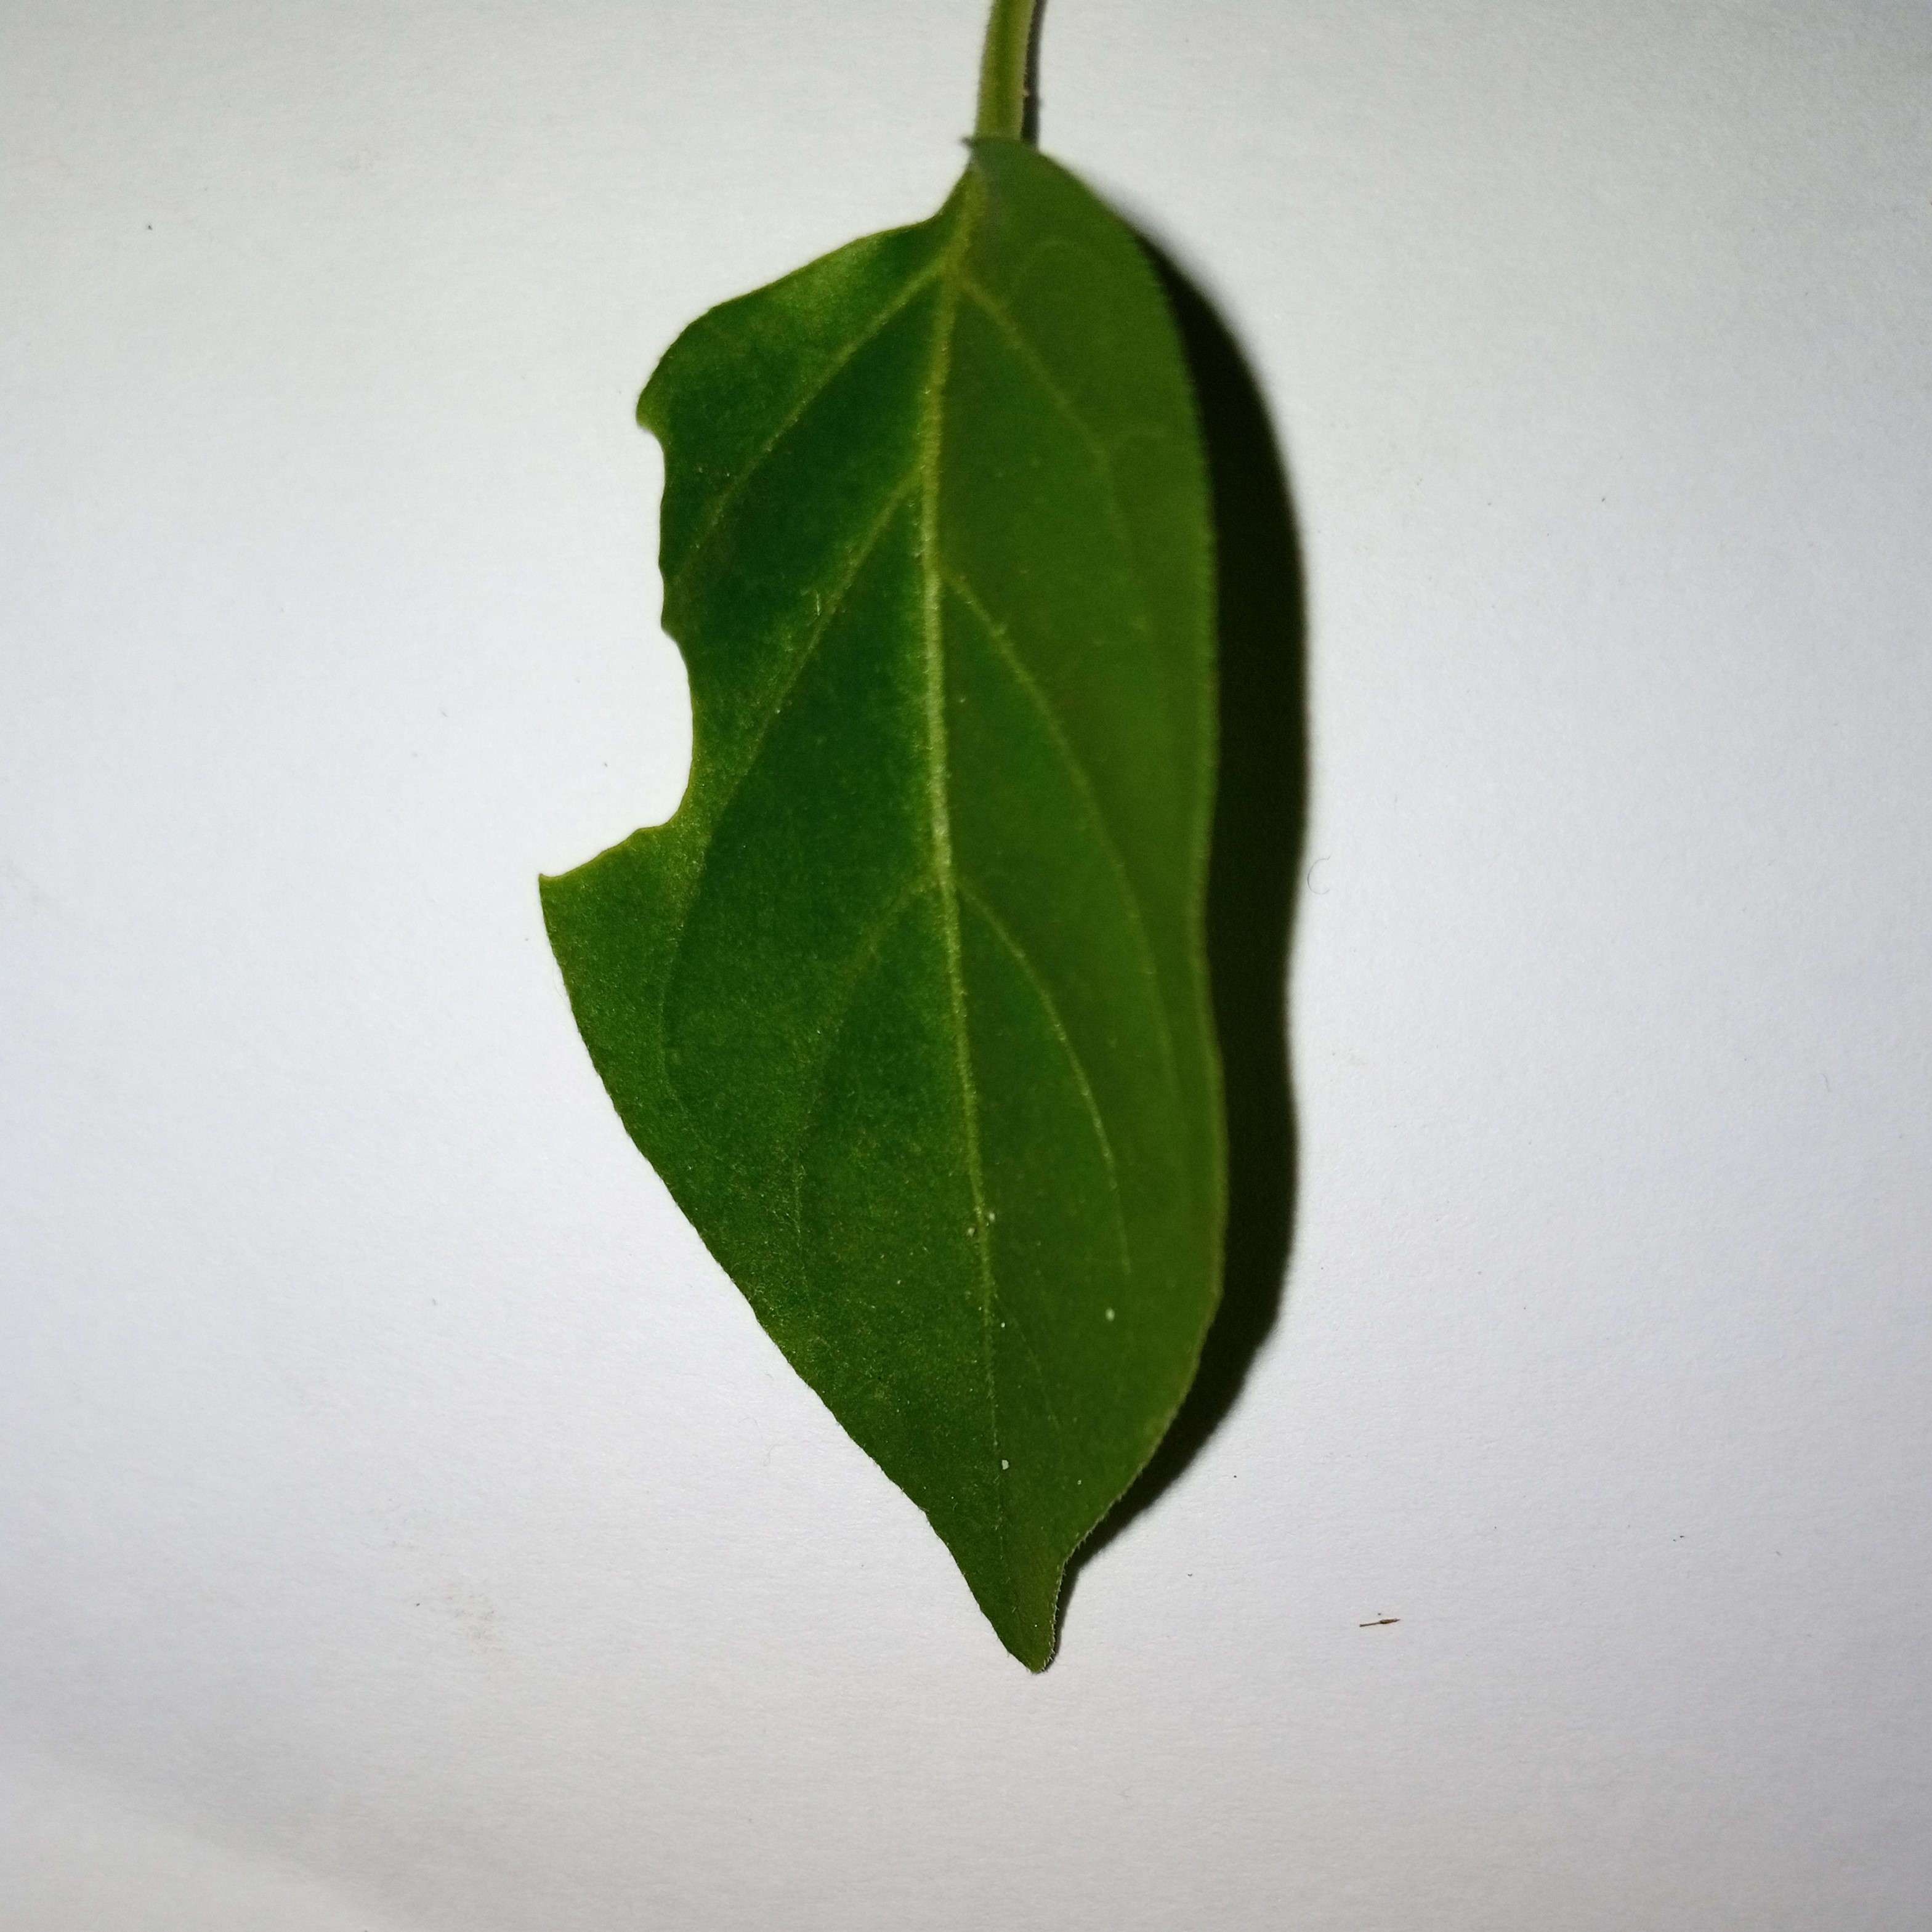Leaf: (458, 83, 1483, 1732)
